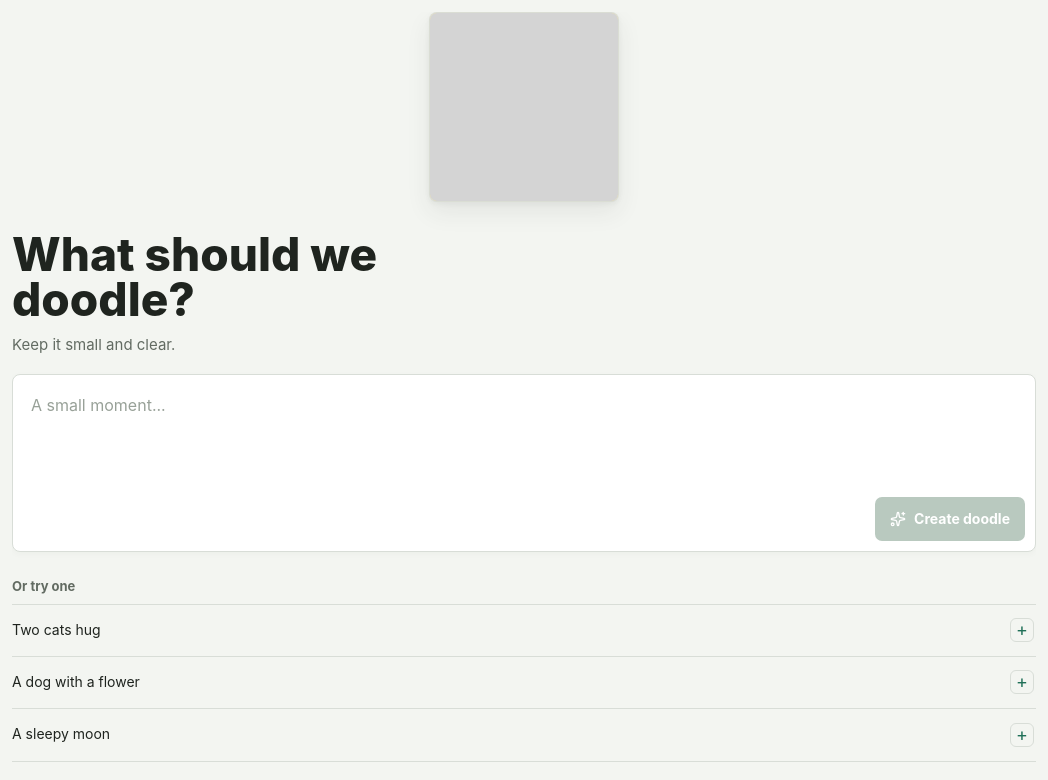
DoodleClient › preserves the scene when generation fails
This screenshot has width=1048, height=780.
Type "A scene that takes time" into the text box. click: (524, 431)
box: 13,375 -> 1035,487
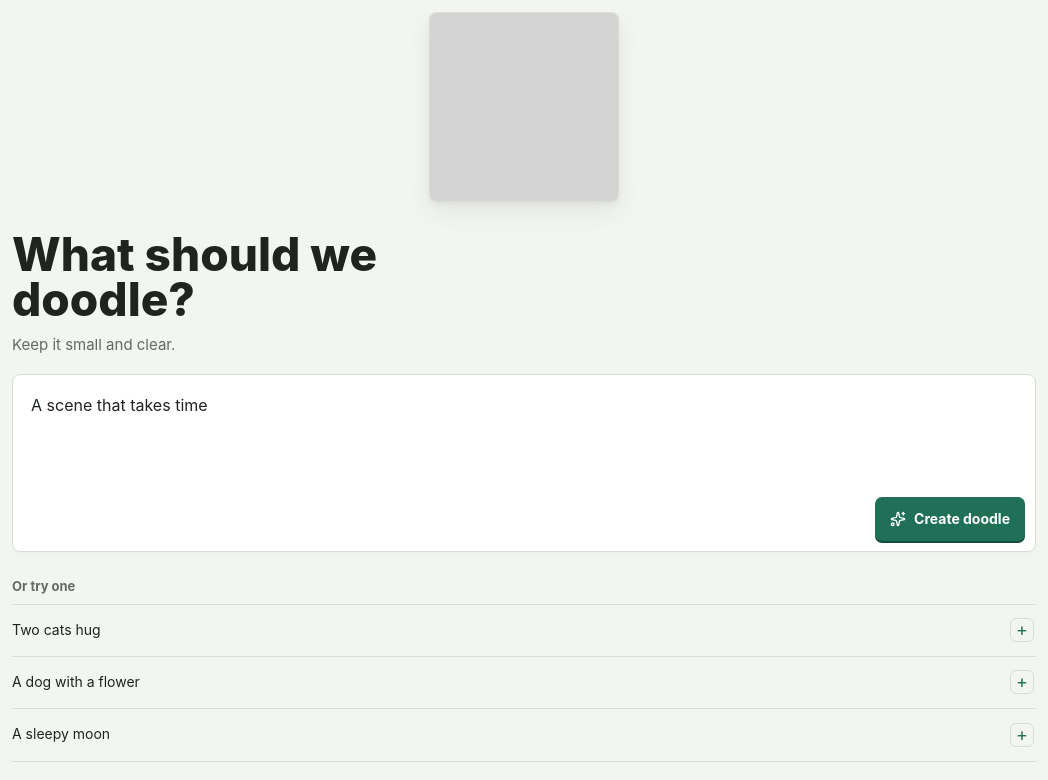
Click the button "Create doodle". click: (950, 519)
box: 875,497 -> 1025,541
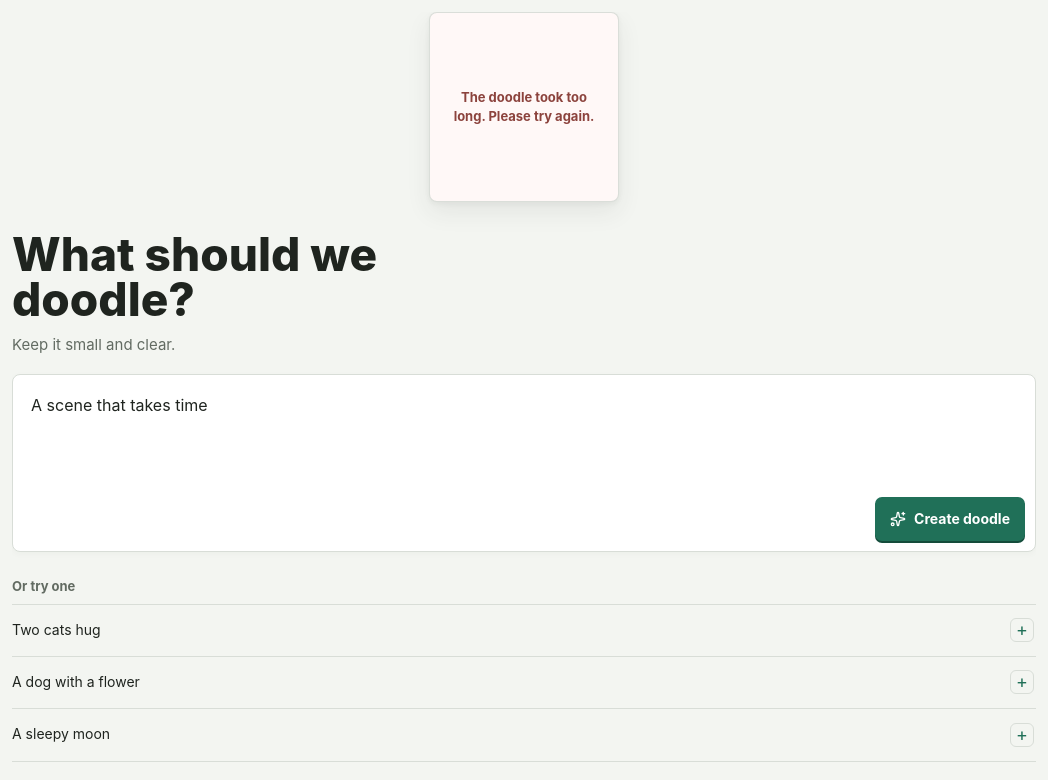
Result: the message shows "took too long" at 454,89 -> 594,124
